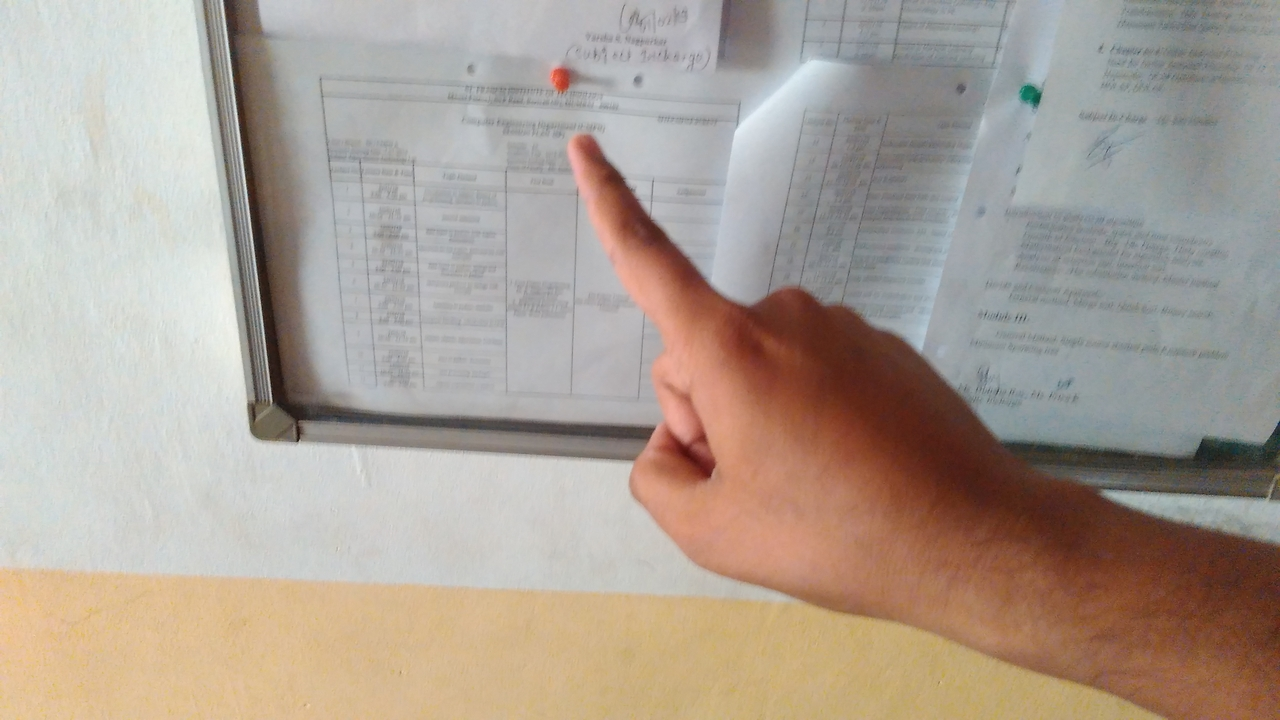fingertip: (558, 124, 616, 178)
